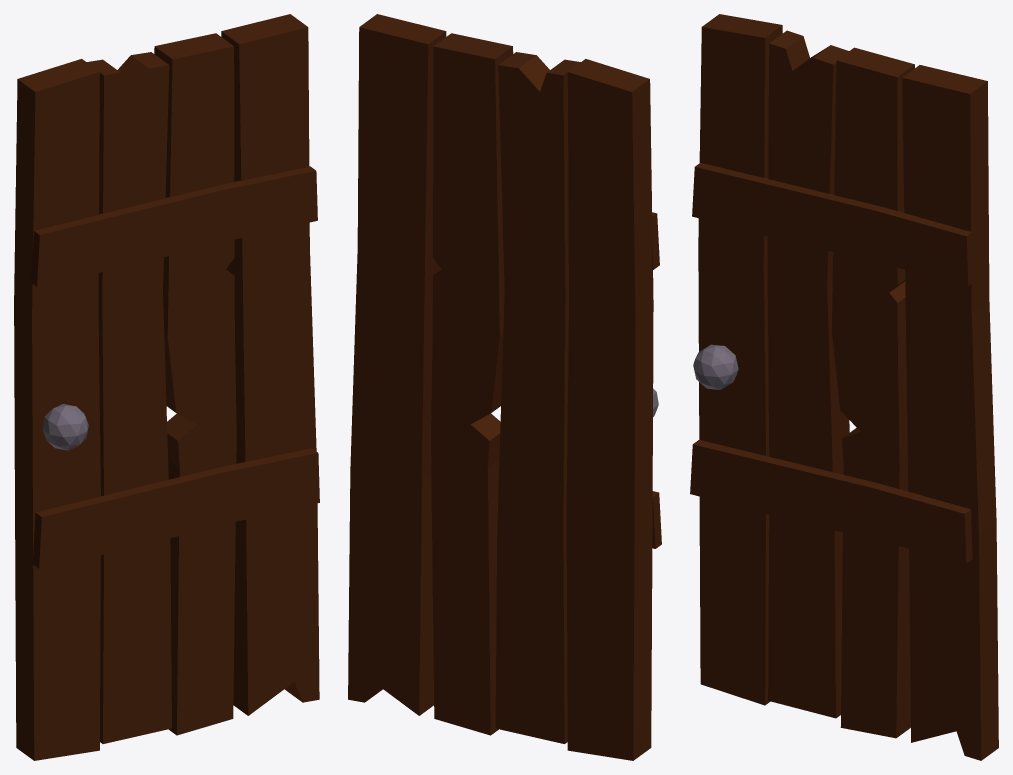
File: door.fbx
3 views of the same model, side by side, from view 1: azimuth 30°, elevation 25°; view 2: azimuth 150°, elevation 25°; view 3: azimuth 330°, elevation 25° (orthographic).
Parts seen in each view (by area): view 1: door, Plane.027, Plane.026, Door Knob; view 2: door; view 3: door, Plane.027, Plane.026, Door Knob.
Part boxes in pixels (x1=…): door: x1=14, y1=14, x2=319, y2=760; Plane.027: x1=33, y1=448, x2=319, y2=568; Plane.026: x1=31, y1=166, x2=317, y2=286; Door Knob: x1=42, y1=404, x2=88, y2=450; door: x1=348, y1=14, x2=653, y2=760; door: x1=698, y1=14, x2=998, y2=760; Plane.027: x1=690, y1=440, x2=972, y2=563; Plane.026: x1=692, y1=162, x2=974, y2=285; Door Knob: x1=693, y1=344, x2=738, y2=389.
Bounding box in the file's own units: 57.21 × 129 × 12.97.
